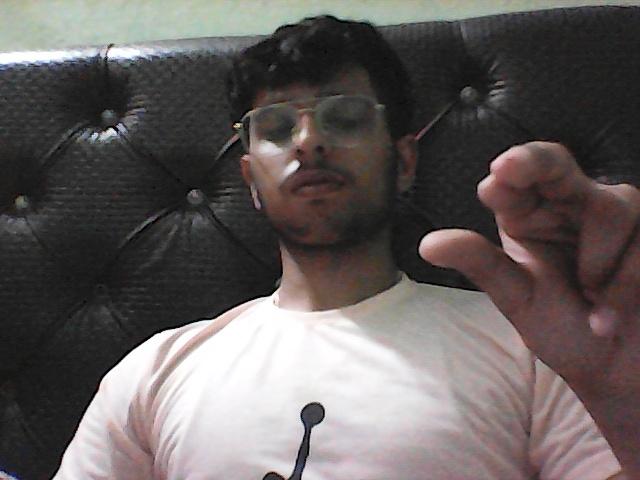no: (409, 131, 640, 431)
